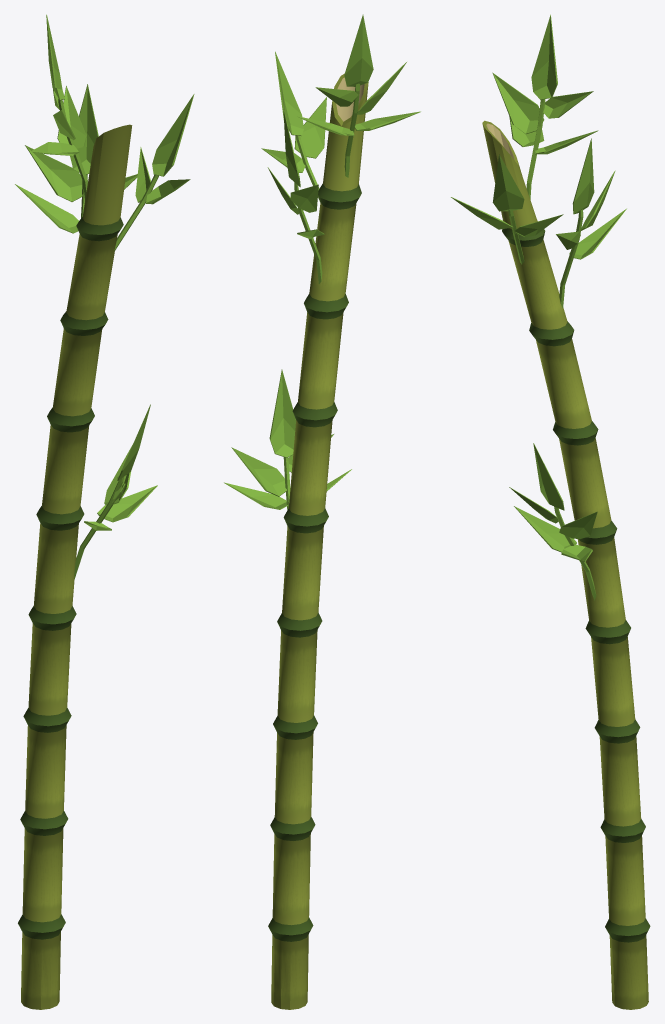
File: bambu_uni.fbx
3 renders of one model, left to right at view 1: azimuth 30°, elevation 25°; view 2: azimuth 150°, elevation 25°; view 3: azimuth 270°, elevation 25°, orthographic. The views are drawn at different scales.
Parts seen in each view (by area): view 1: bases_2.019; view 2: bases_2.019; view 3: bases_2.019.
Boxes of the visible parts, box(x1,y1,x2,y2) form: bases_2.019: box(15, 14, 194, 1009); bases_2.019: box(224, 14, 420, 1009); bases_2.019: box(451, 14, 650, 1009).
Bounding box in the file's own units: 95.58 × 555 × 103.
